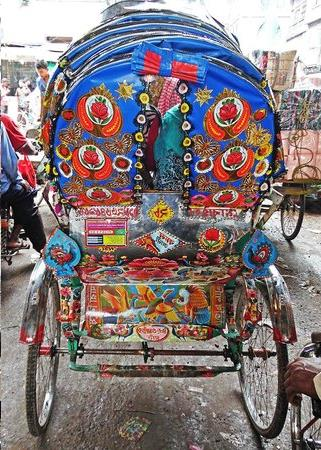Rickshaw: (29, 9, 291, 431)
